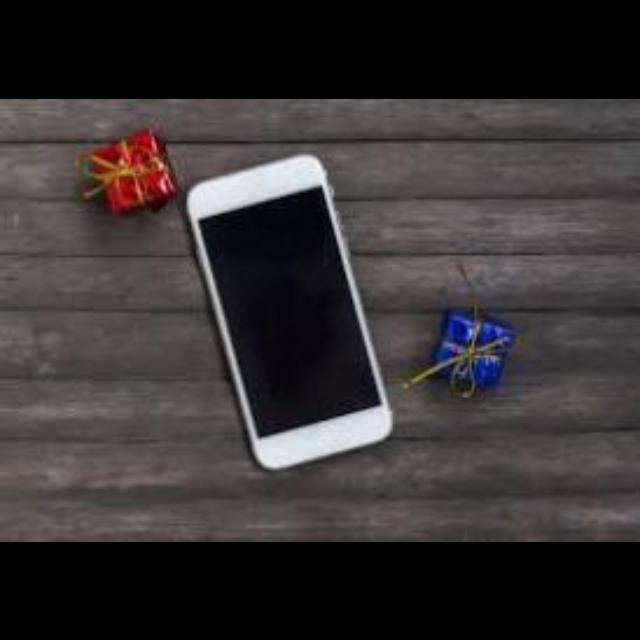PhoneUse: (188, 153, 392, 470)
